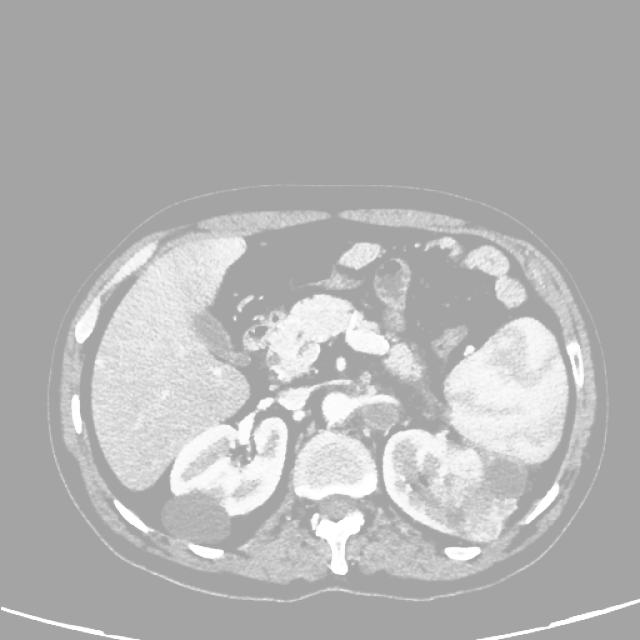TUMOR: (150, 259, 561, 510)
